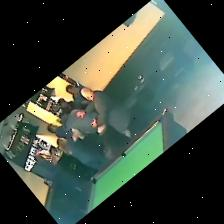person: (81, 88, 135, 134), (65, 85, 89, 109)
